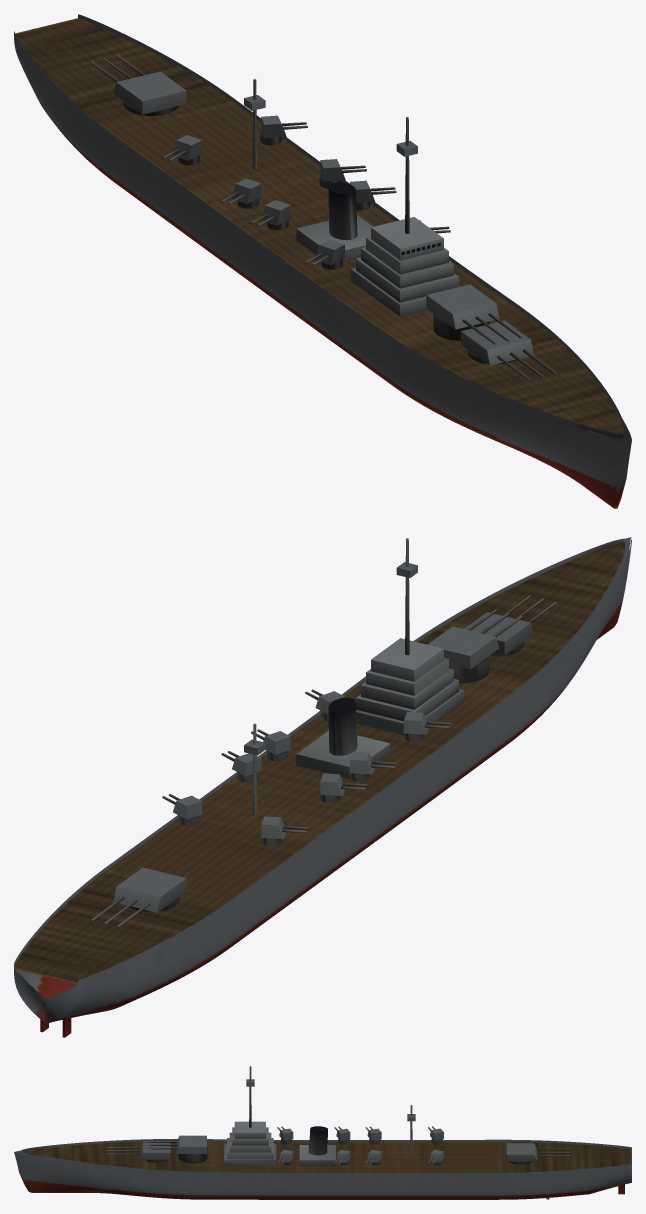
The model's file is model_built.glb.
3 views of the same model, one above another, from view 1: azimuth 30°, elevation 25°; view 2: azimuth 150°, elevation 25°; view 3: azimuth 270°, elevation 25° (orthographic). The views are drawn at different scales.
Visible parts, largest first — view 1: main; view 2: main; view 3: main.
Boxes of the visible parts, box(x1,y1,x2,y2) form: main: box(14, 14, 631, 508); main: box(14, 537, 631, 1037); main: box(14, 1066, 631, 1199).
Bounding box in the file's own units: 33.79 × 53.88 × 238.
2 materials, 2 textured.
